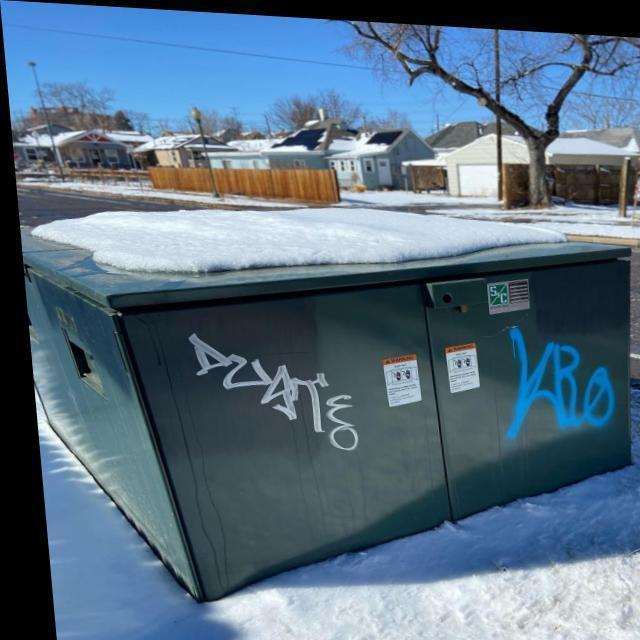nonspitting: (186, 323, 361, 458), (500, 325, 615, 449)
